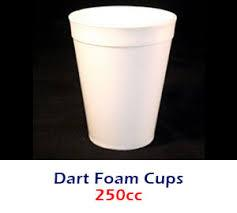Plastic cup: (57, 6, 204, 154)
